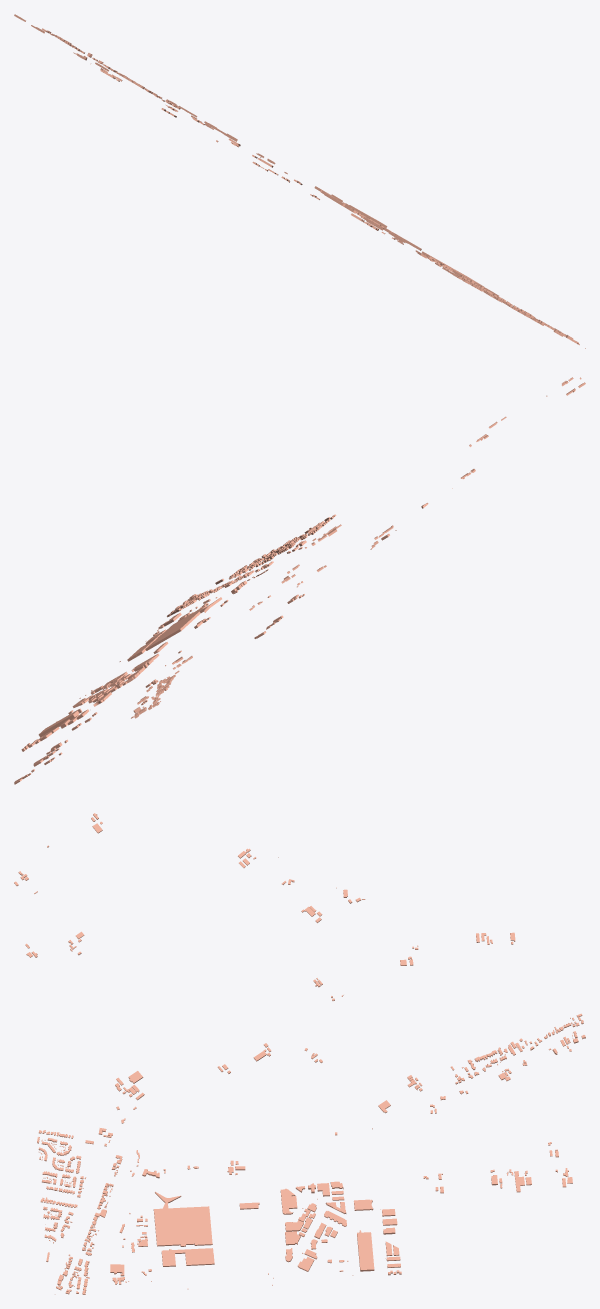
3 renders of one model, top to bottom at view 1: azimuth 30°, elevation 25°; view 2: azimuth 150°, elevation 25°; view 3: azimuth 270°, elevation 25°, orthographic. The views are drawn at different scales.
Bounding box in the file's own units: 1852 × 1423 × 2453.
